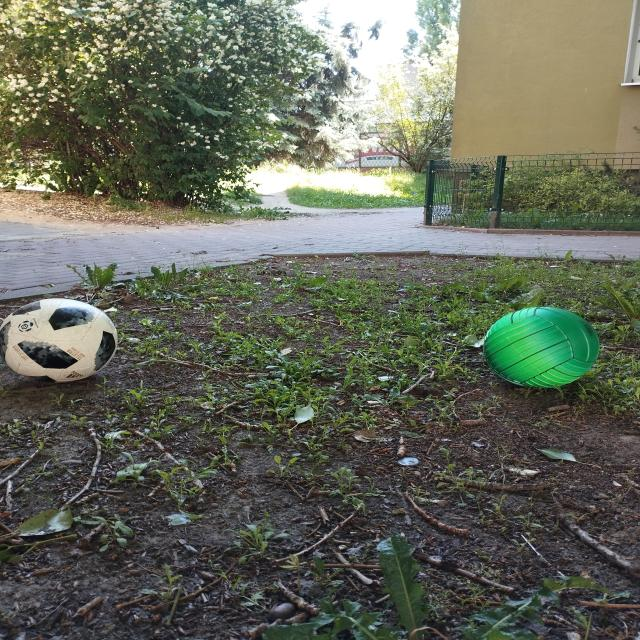nozna: (0, 298, 119, 384)
zielona: (483, 307, 600, 388)
